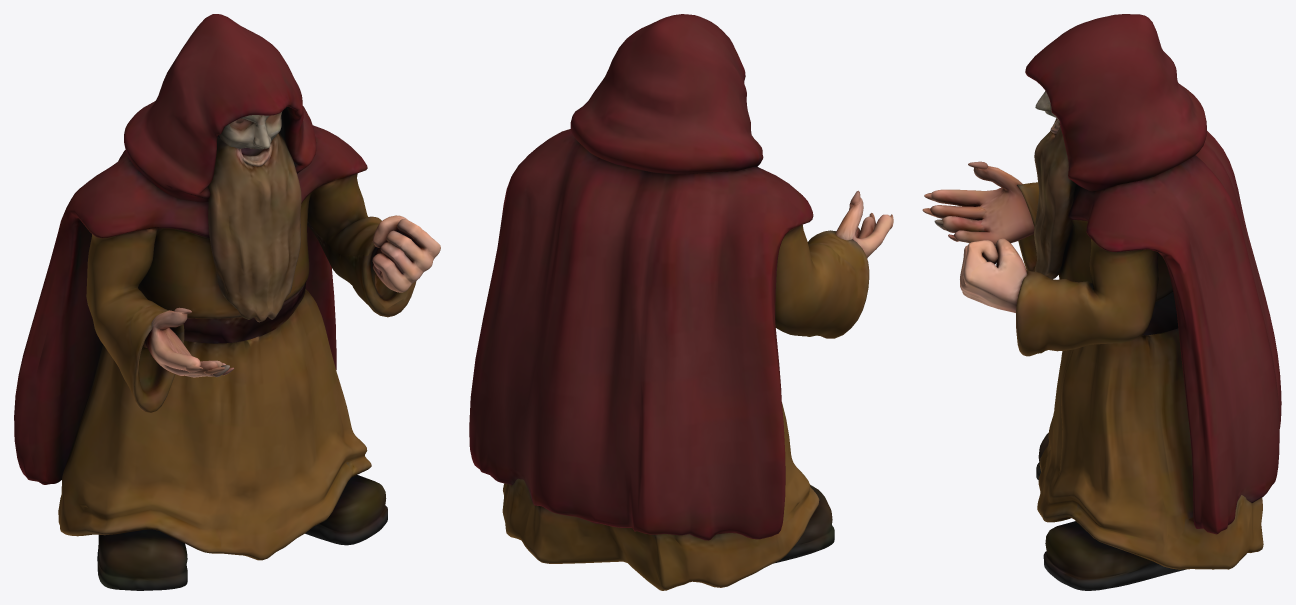
Rendered from MZ4250 - DuergarMindMaster_Alt1.glb.
The picture shows the model from 3 angles, left to right: view 1: azimuth 30°, elevation 25°; view 2: azimuth 150°, elevation 25°; view 3: azimuth 270°, elevation 25°; orthographic projection.
Visible parts, largest first — view 1: Duergar Mind Master.001; view 2: Duergar Mind Master.001; view 3: Duergar Mind Master.001.
Part boxes in pixels (bbox=[...]): Duergar Mind Master.001: bbox=[14, 14, 440, 590]; Duergar Mind Master.001: bbox=[469, 14, 893, 590]; Duergar Mind Master.001: bbox=[922, 14, 1281, 590].
Bounding box in the file's own units: 18.01 × 27.97 × 17.81.
1 material, 1 textured.
